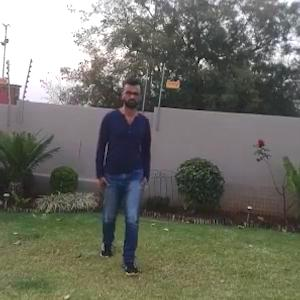follow: (100, 83, 149, 264)
